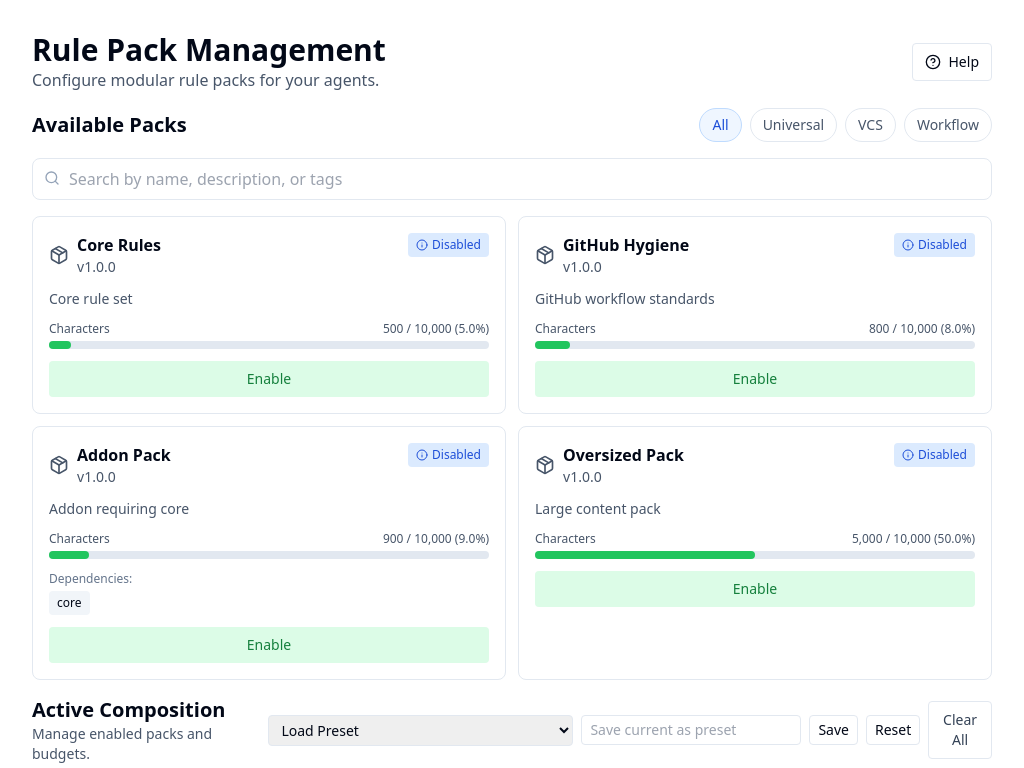
it: RulePacksView › filters packs based on search input
Check: the heading "Addon Pack" is shown, box [77,443,171,467]
Check: the heading "Core Rules" is shown, box [77,233,161,257]
Type "addon" into the field with placeholder "Search by name, description, or tags".
click(512, 179); type("addon")  # box [32,158,992,200]
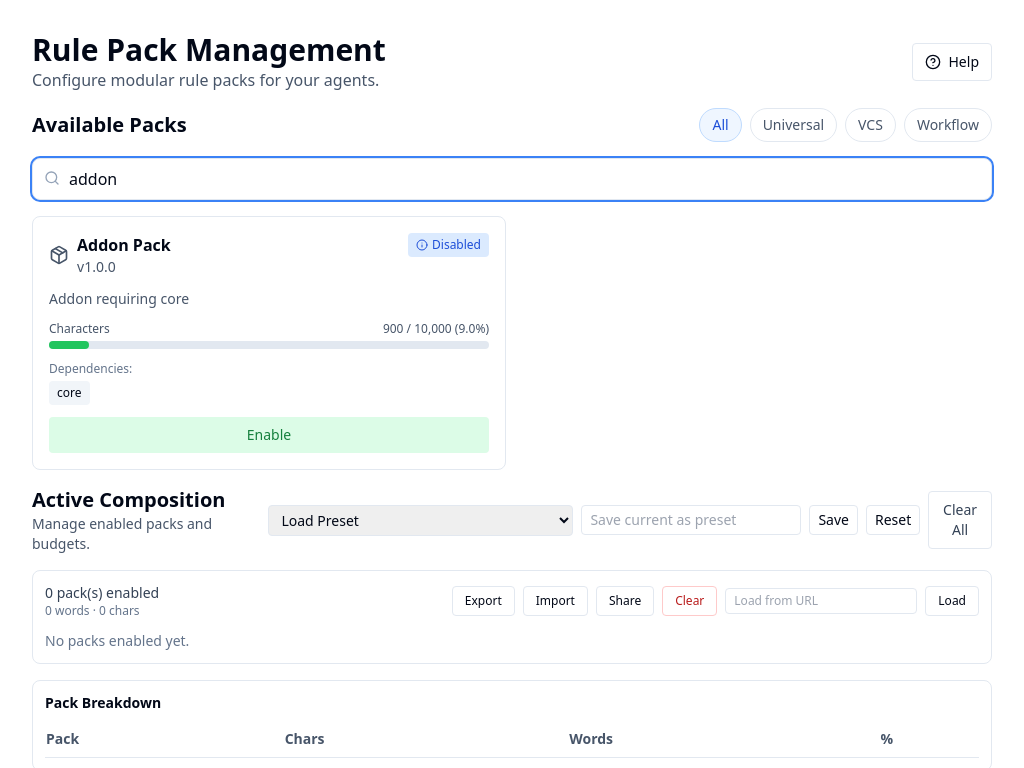
Check: the heading "Addon Pack" is shown, box [77,233,171,257]
Check: the heading "Core Rules" is gone
